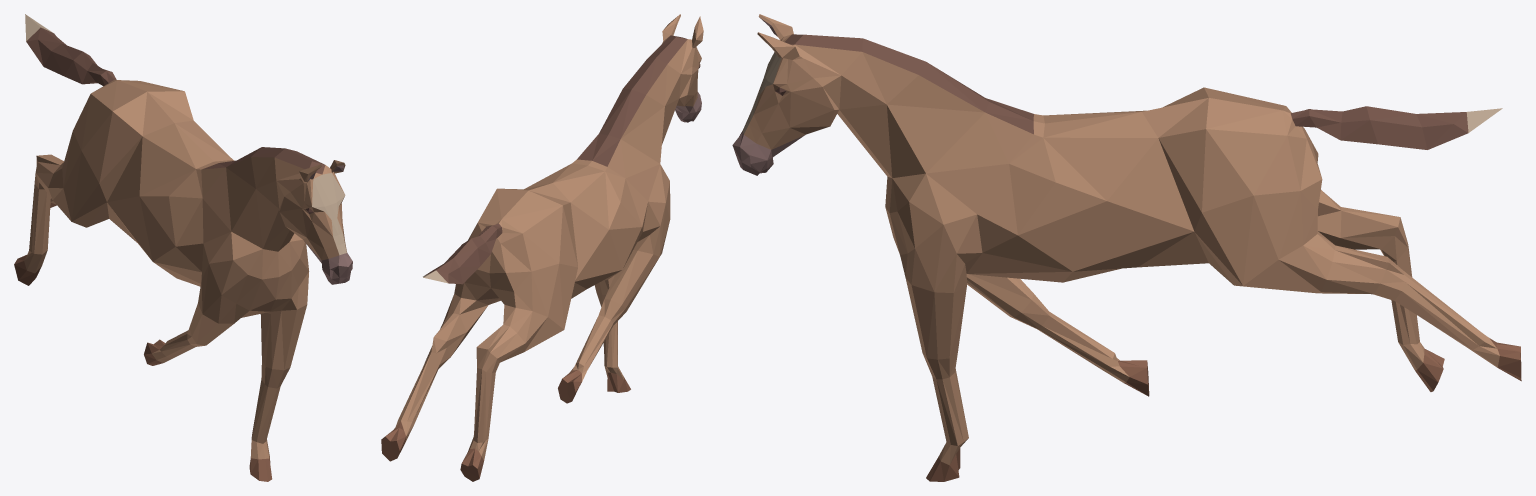
File: Horse.glb
The picture shows the model from 3 angles, left to right: view 1: azimuth 30°, elevation 25°; view 2: azimuth 150°, elevation 25°; view 3: azimuth 270°, elevation 25°; orthographic projection. The views are drawn at different scales.
Visible parts, largest first — view 1: mesh_0; view 2: mesh_0; view 3: mesh_0.
Boxes of the visible parts, bbox=[...] form: mesh_0: bbox=[14, 14, 352, 481]; mesh_0: bbox=[381, 14, 703, 481]; mesh_0: bbox=[732, 14, 1521, 481].
Size of the model in its own units: 63.4 by 194 by 305.
